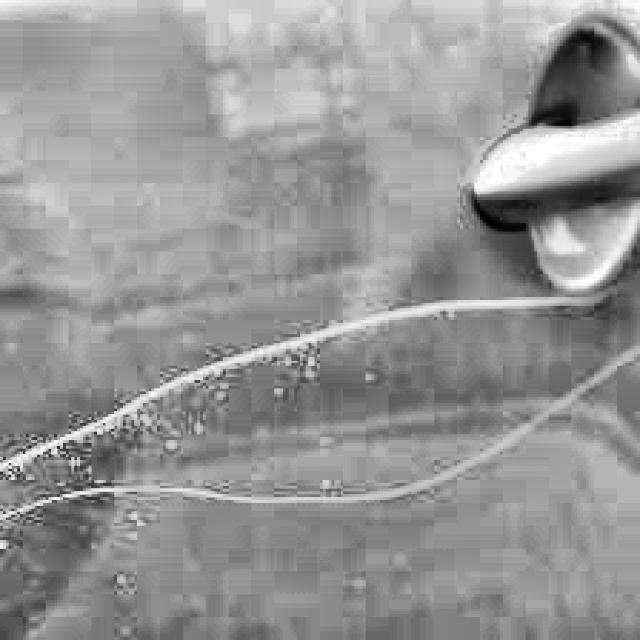door_scratch: (21, 305, 621, 509)
